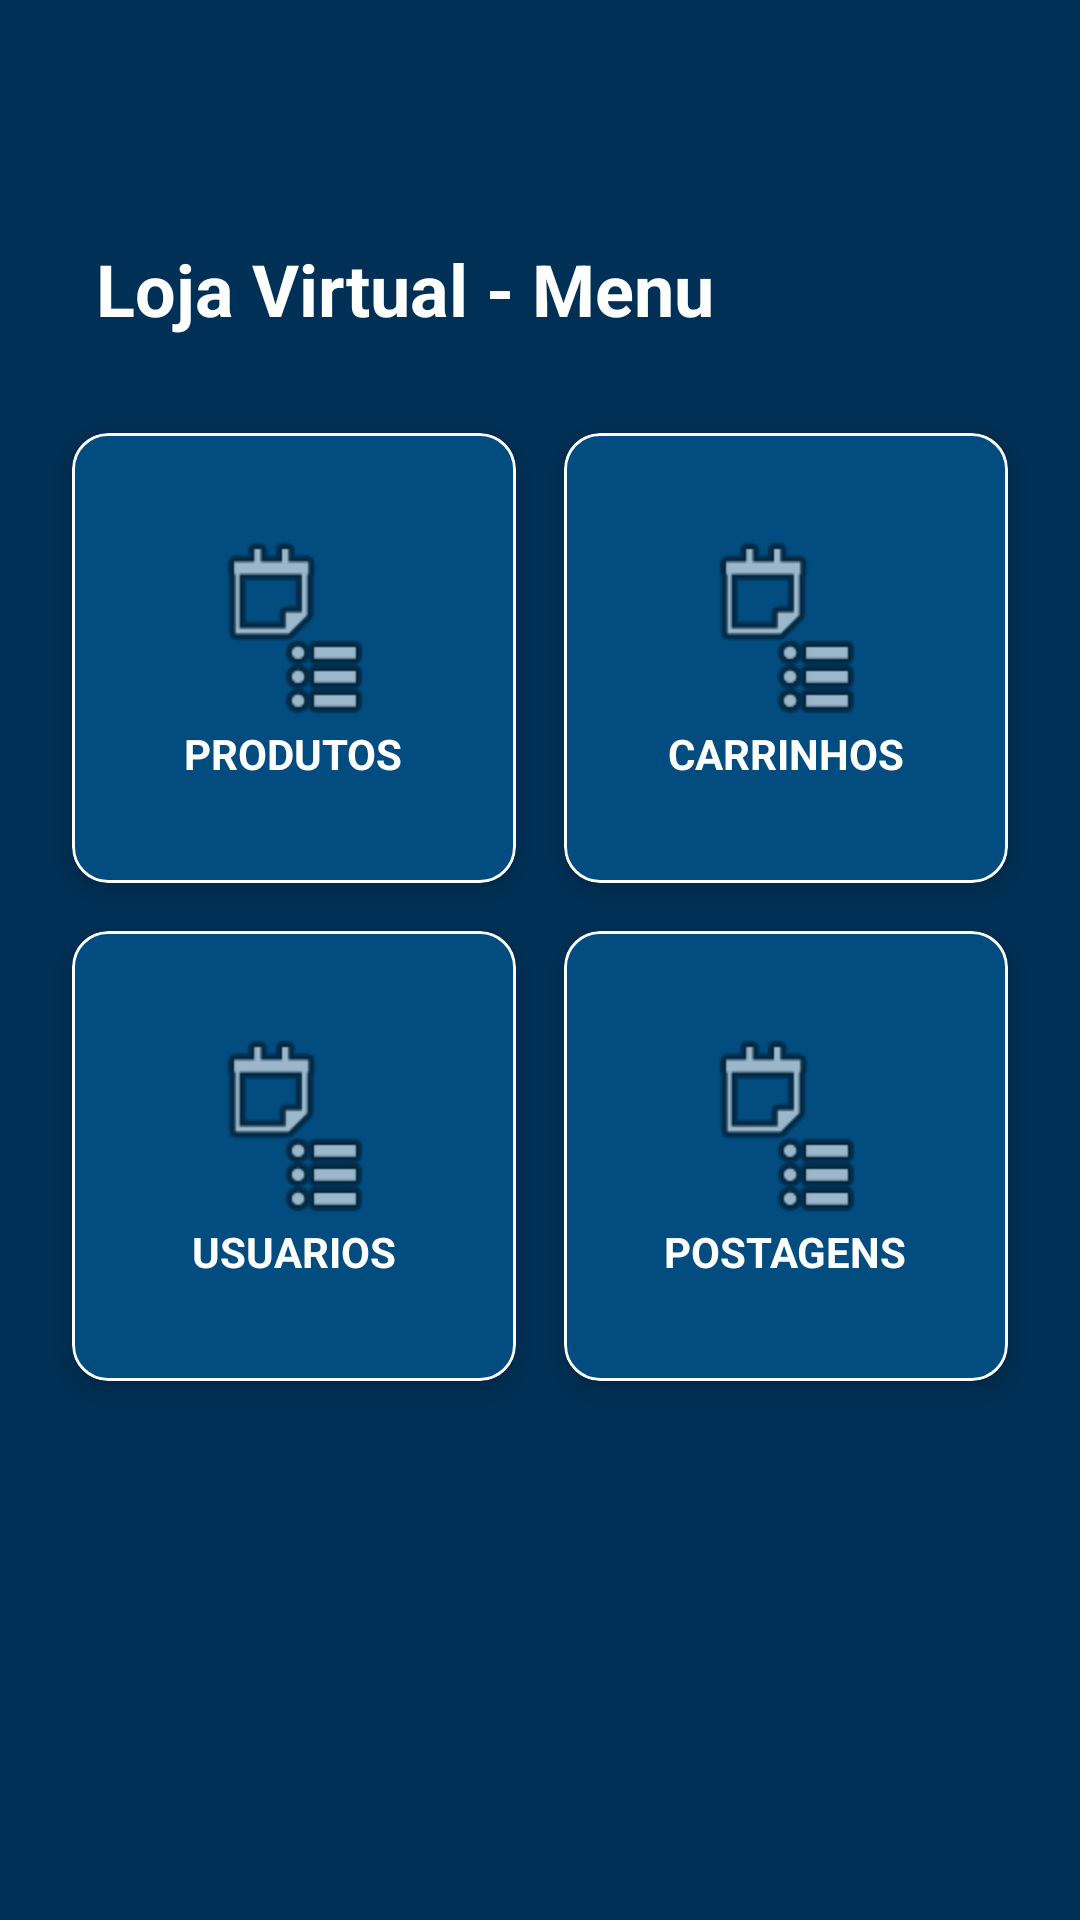

Icons on this 1080*1920 Android screen, each with the point to tap as point (x, y):
agenda: point (295, 628), point (787, 628), point (295, 1126), point (787, 1126)
